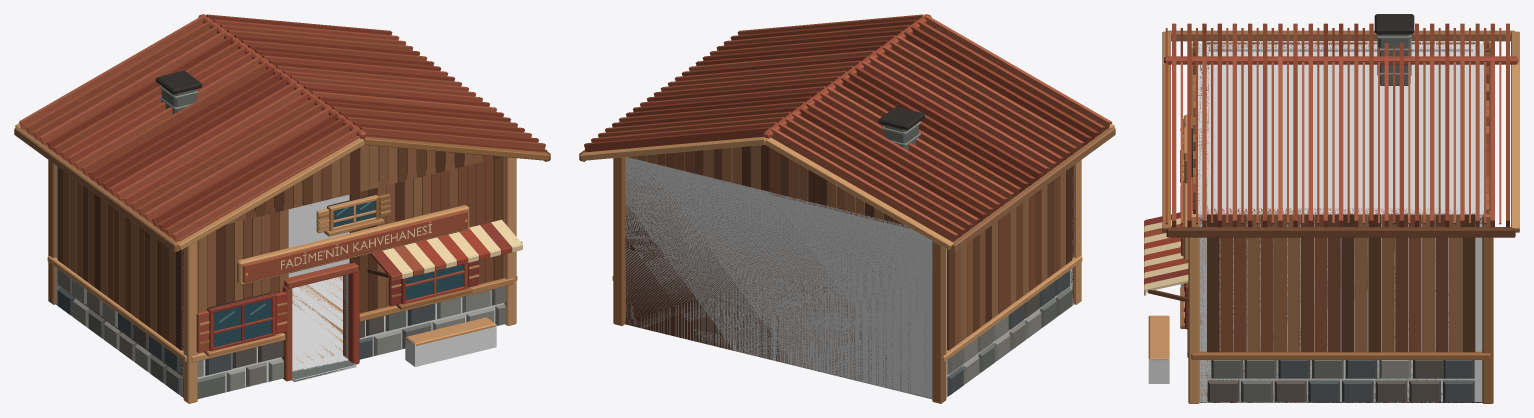
File: kahvehane.glb
3 renders of one model, left to right at view 1: azimuth 30°, elevation 25°; view 2: azimuth 150°, elevation 25°; view 3: azimuth 270°, elevation 25°, orthographic. The views are drawn at different scales.
Parts seen in each view (by area): view 1: Roof, Cladding, Stonework, Shell-col, Frame, Windows, Gables, Sign, Fascia, Canopy, Roof seams, Doorframe (+8 smaller); view 2: Roof, Shell-col, Walls, Cladding, Frame, Gables, Fascia, Stonework, Roof seams, Chimney, Ceiling-col; view 3: Cladding, Ceiling-col, Roof, Roof seams, Shell-col, Stonework, Fascia, Frame, Canopy, Walls, Chimney, Gables (+5 smaller).
Boxes of the visible parts, bbox=[...] form: Roof: bbox=[19, 14, 545, 241]; Cladding: bbox=[57, 156, 505, 350]; Stonework: bbox=[57, 269, 506, 398]; Shell-col: bbox=[56, 166, 504, 398]; Frame: bbox=[47, 157, 517, 403]; Windows: bbox=[204, 194, 472, 356]; Gables: bbox=[226, 145, 501, 224]; Sign: bbox=[237, 205, 469, 285]; Fascia: bbox=[14, 123, 550, 252]; Canopy: bbox=[367, 219, 522, 281]; Roof seams: bbox=[24, 23, 547, 241]; Doorframe: bbox=[281, 262, 359, 381]; Roof: bbox=[584, 14, 1110, 241]; Shell-col: bbox=[625, 157, 1073, 398]; Walls: bbox=[625, 165, 1073, 393]; Cladding: bbox=[947, 167, 1072, 350]; Frame: bbox=[612, 157, 1082, 403]; Gables: bbox=[628, 145, 903, 224]; Fascia: bbox=[579, 123, 1115, 252]; Stonework: bbox=[947, 270, 1072, 396]; Roof seams: bbox=[778, 18, 1112, 236]; Chimney: bbox=[878, 106, 924, 150]; Ceiling-col: bbox=[653, 165, 912, 229]; Cladding: bbox=[1207, 42, 1475, 352]; Ceiling-col: bbox=[1200, 51, 1482, 223]; Roof: bbox=[1164, 23, 1517, 227]; Roof seams: bbox=[1165, 28, 1501, 224]; Shell-col: bbox=[1195, 43, 1486, 402]; Stonework: bbox=[1207, 360, 1474, 401]; Fascia: bbox=[1162, 30, 1519, 237]; Frame: bbox=[1187, 42, 1493, 403]; Canopy: bbox=[1144, 212, 1188, 302]; Walls: bbox=[1198, 43, 1465, 402]; Chimney: bbox=[1374, 14, 1414, 85]; Gables: bbox=[1193, 39, 1489, 213].
Bounding box in the file's own units: 9.46 × 5.79 × 7.53.
